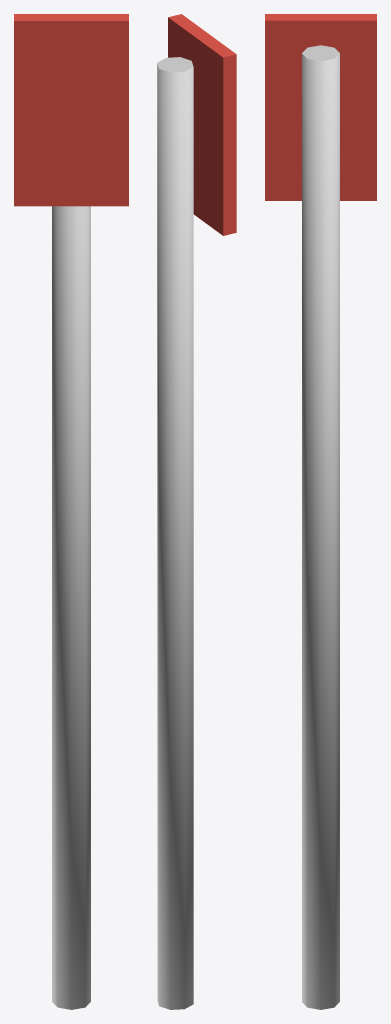
The picture shows the model from 3 angles, left to right: view 1: azimuth 90°, elevation 25°; view 2: azimuth 210°, elevation 25°; view 3: azimuth 270°, elevation 25°; orthographic projection. The views are drawn at different scales.
Parts seen in each view (by area): view 1: bü4; view 2: bü4; view 3: bü4.
Boxes of the visible parts, x1,y1,x2,y2 form: bü4: (14, 14, 128, 1009); bü4: (157, 14, 236, 1009); bü4: (265, 14, 376, 1009).
Size of the model in its own units: 0.0983 by 1.8 by 0.1876.
